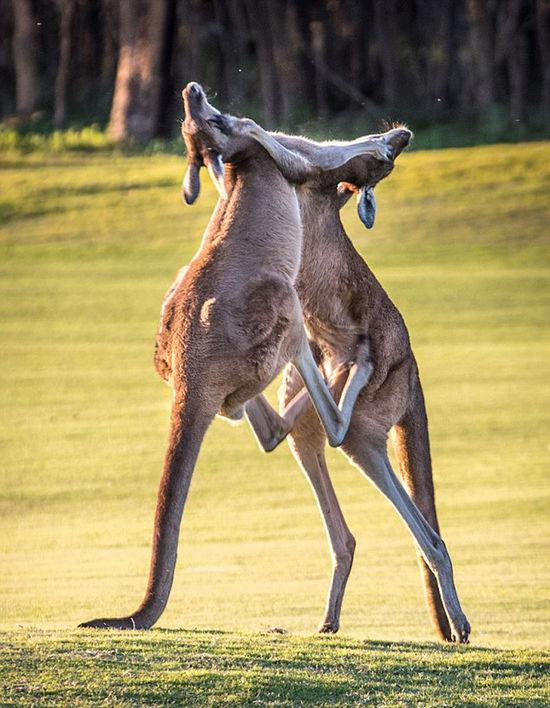kangaroo: (74, 77, 350, 638), (273, 113, 456, 648)
